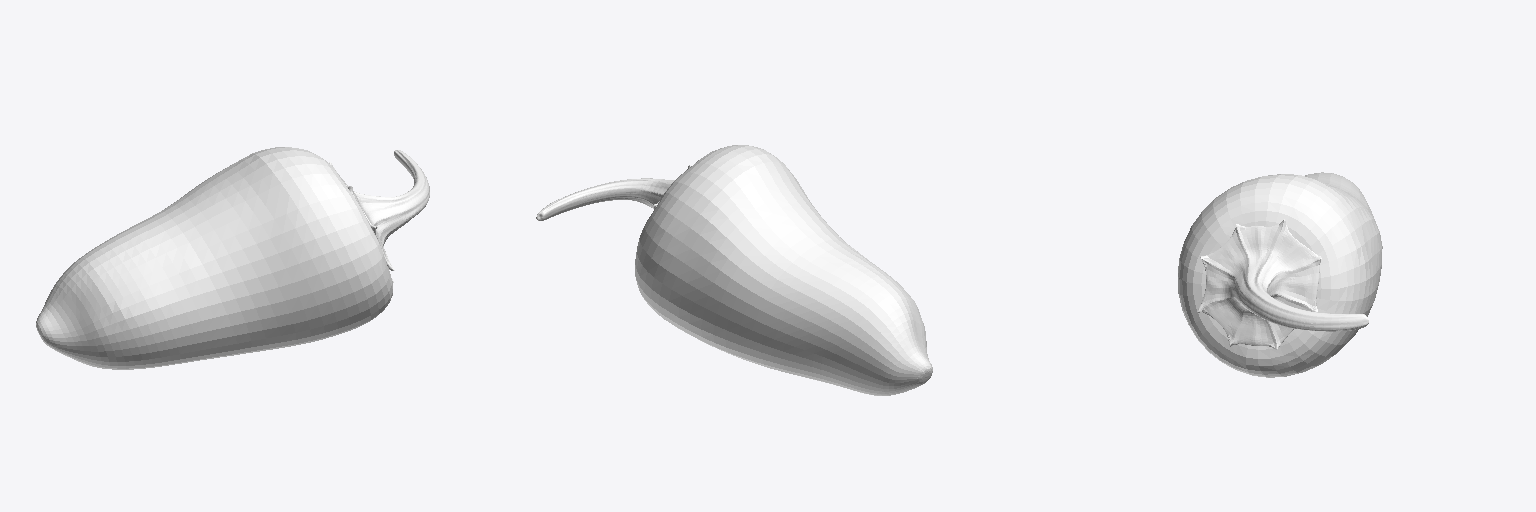
File: Jalapeno.obj
The picture shows the model from 3 angles: view 1: azimuth 30°, elevation 25°; view 2: azimuth 150°, elevation 25°; view 3: azimuth 270°, elevation 25°; orthographic projection.
Visible parts, largest first — view 1: Jalapeno_pivot.000; view 2: Jalapeno_pivot.000; view 3: Jalapeno_pivot.000.
Part boxes in pixels (x1,y1,x2,y2): Jalapeno_pivot.000: (36, 147, 429, 369); Jalapeno_pivot.000: (536, 145, 932, 395); Jalapeno_pivot.000: (1178, 172, 1382, 377).
Size of the model in its own units: 3 by 1.4 by 1.4.